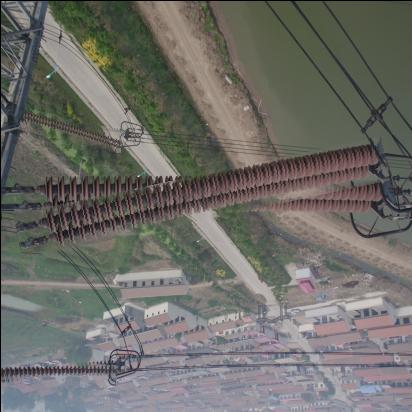insulator: (13, 156, 390, 239), (20, 113, 126, 148), (1, 357, 118, 388)
